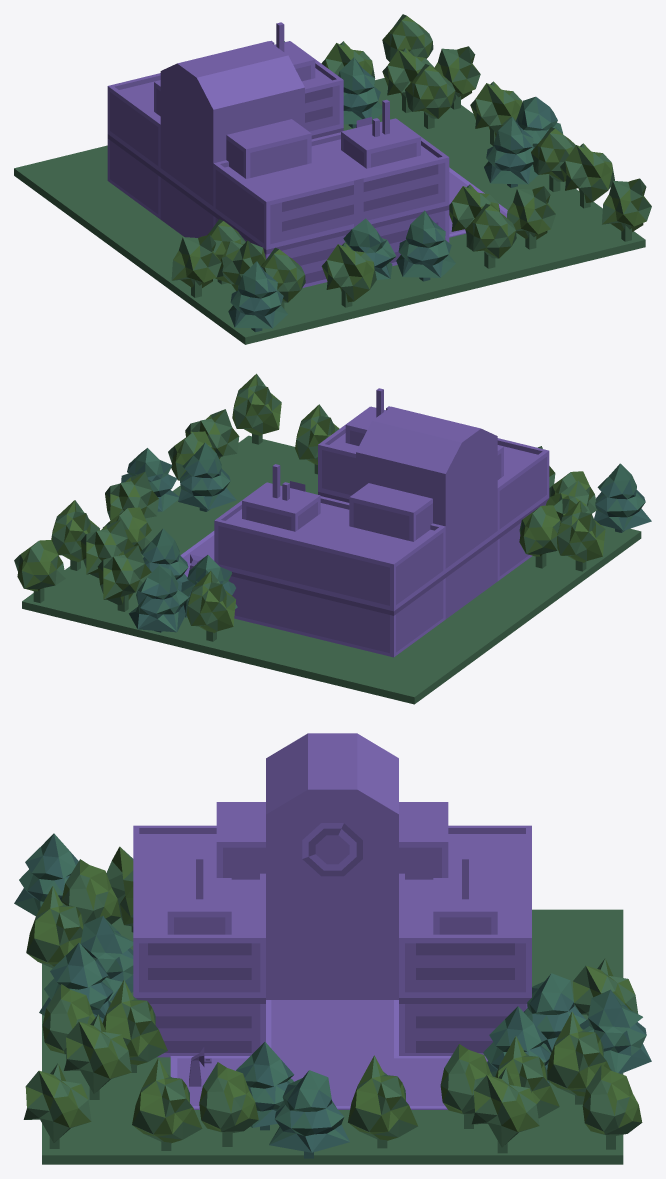
File: School.fbx
3 views of the same model, one above another, from view 1: azimuth 30°, elevation 25°; view 2: azimuth 150°, elevation 25°; view 3: azimuth 270°, elevation 25° (orthographic). The views are drawn at different scales.
Parts seen in each view (by area): view 1: School(Ground), School; view 2: School(Ground), School; view 3: School(Ground), School.
Boxes of the visible parts, box(x1,y1,x2,y2) form: School(Ground): box(14, 14, 651, 344); School: box(107, 22, 449, 287); School(Ground): box(14, 373, 651, 704); School: box(214, 388, 549, 657); School(Ground): box(14, 833, 651, 1164); School: box(133, 733, 531, 1057).
Size of the model in its own units: 192 by 72.98 by 191.
